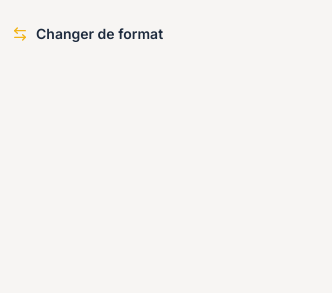
Commander inline Shopify variant selector › selects the current variant, disables unavailable and nonexistent combinations and replaces with an available variant
Later steps or results of the test are not shown.
Click the button "Changer de format": (88,34) top-left (12, 12), bottom-right (163, 56)
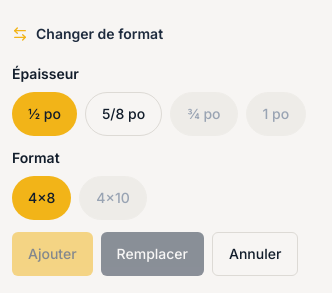
Now the button "¾ po" is disabled, box top-left (170, 92), bottom-right (238, 136)
Now the button "1 po" is disabled, box top-left (246, 92), bottom-right (306, 136)
Now the button "4x10" is disabled, box top-left (79, 176), bottom-right (147, 220)
